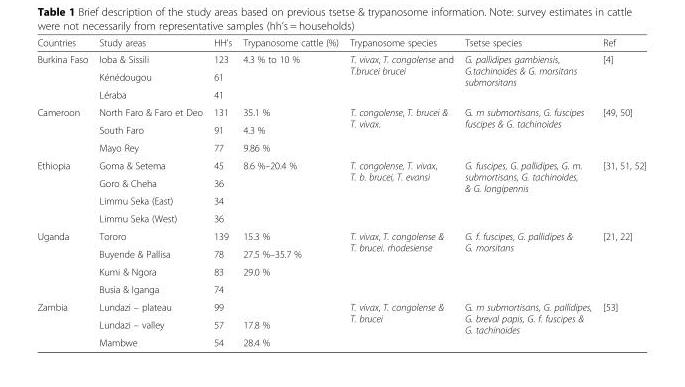table: (36, 36, 645, 347)
table column: (458, 36, 596, 347), (92, 36, 207, 347), (343, 36, 458, 347), (236, 36, 343, 347), (36, 36, 92, 347), (596, 36, 645, 347), (207, 36, 236, 347)
table column header: (36, 36, 645, 50)
table row: (36, 67, 645, 85), (36, 85, 645, 103), (36, 120, 645, 138), (36, 138, 645, 156), (36, 173, 645, 191), (36, 191, 645, 209), (36, 209, 645, 227), (36, 244, 645, 262), (36, 262, 645, 280), (36, 297, 645, 315), (36, 315, 645, 333), (36, 50, 645, 67), (36, 103, 645, 120), (36, 156, 645, 173), (36, 227, 645, 244), (36, 280, 645, 297), (36, 36, 645, 50), (36, 333, 645, 347)
table spanning cell: (458, 156, 596, 227), (458, 227, 596, 297), (343, 156, 458, 227), (343, 227, 458, 297), (236, 156, 343, 227), (458, 50, 596, 103), (458, 103, 596, 156), (458, 297, 596, 347), (343, 50, 458, 103), (343, 103, 458, 156), (343, 297, 458, 347), (236, 50, 343, 103), (36, 156, 92, 227), (36, 227, 92, 297), (236, 262, 343, 297), (596, 156, 645, 227), (596, 227, 645, 297), (36, 50, 92, 103), (36, 103, 92, 156), (36, 297, 92, 347), (596, 50, 645, 103), (596, 103, 645, 156), (596, 297, 645, 347)
